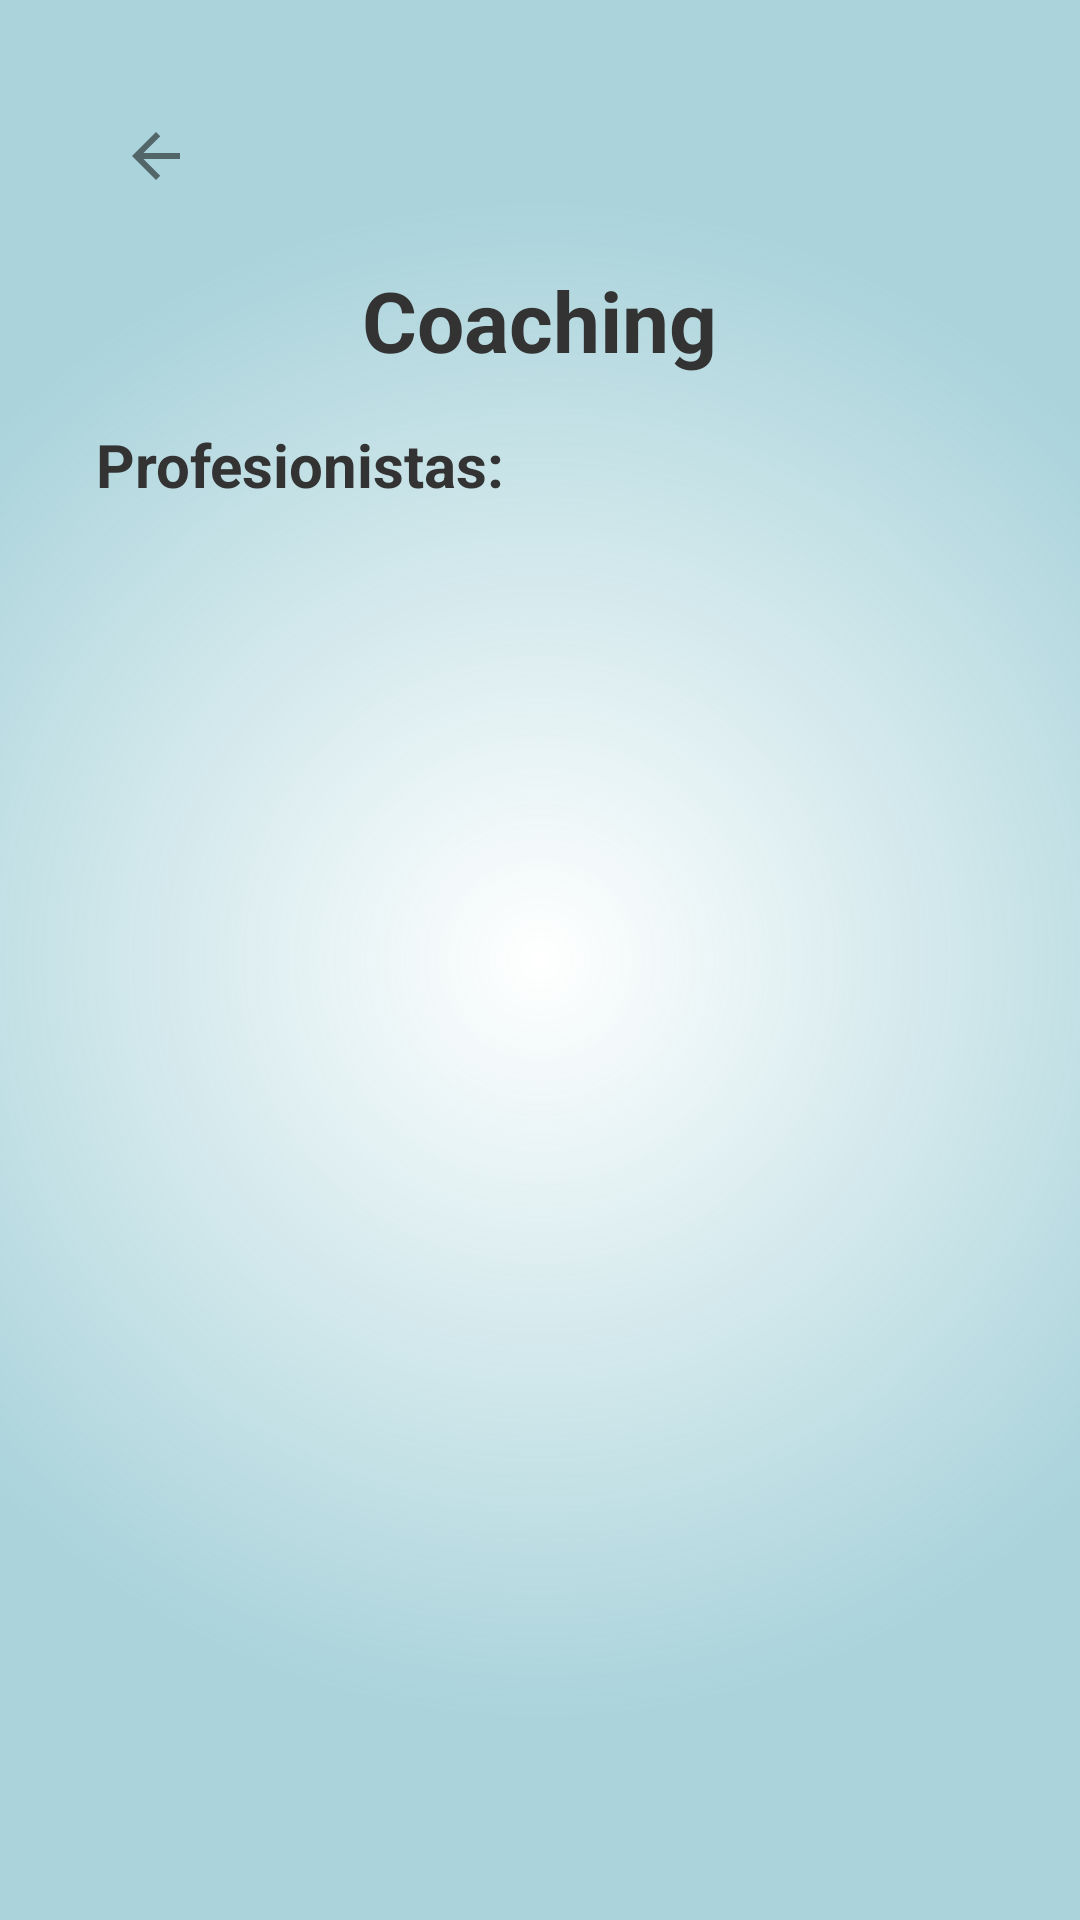

Icon bounding boxes for this 1080w x 1920h phone screenshot, format (x1, y1, x2, y2):
Go back: (132, 132, 180, 180)
